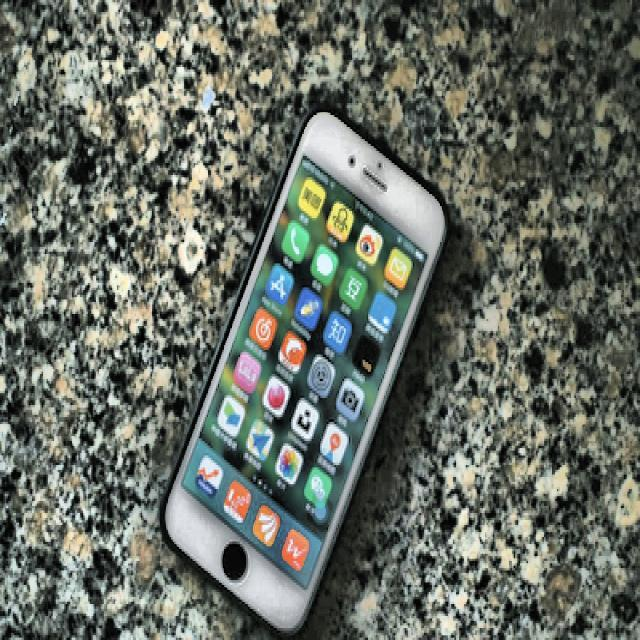Phone: (160, 103, 445, 640)
